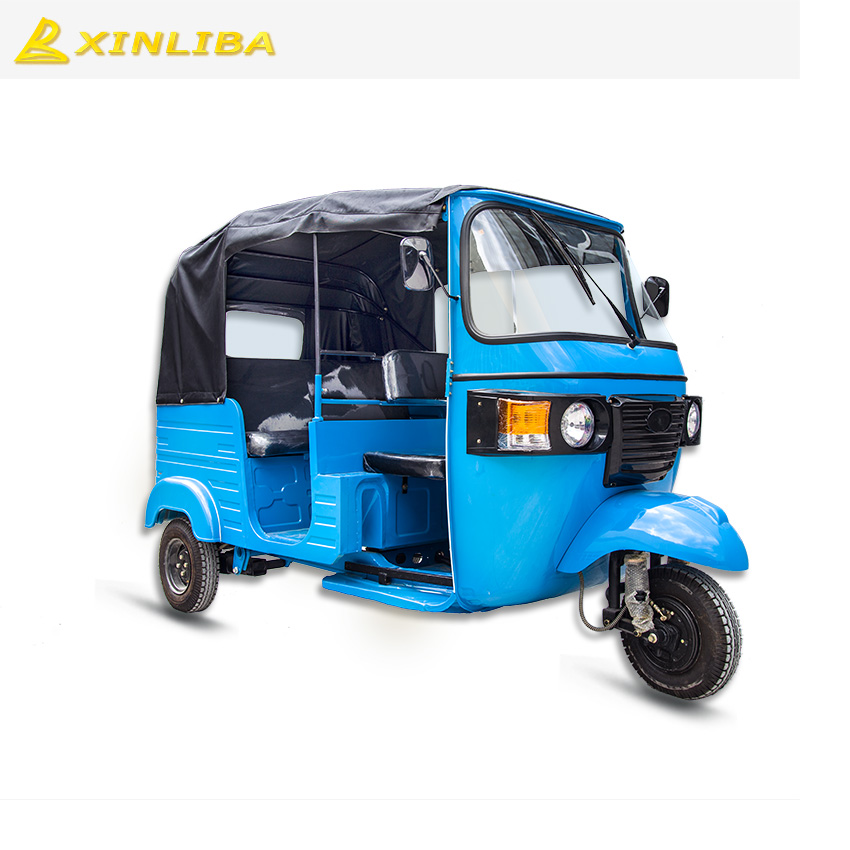threewheel: (144, 184, 748, 699)
